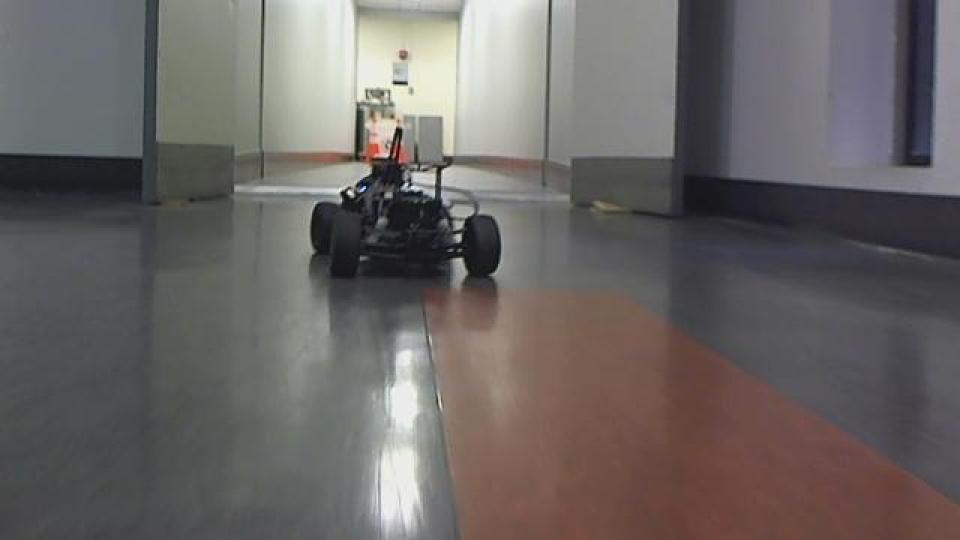car: (306, 123, 504, 282)
